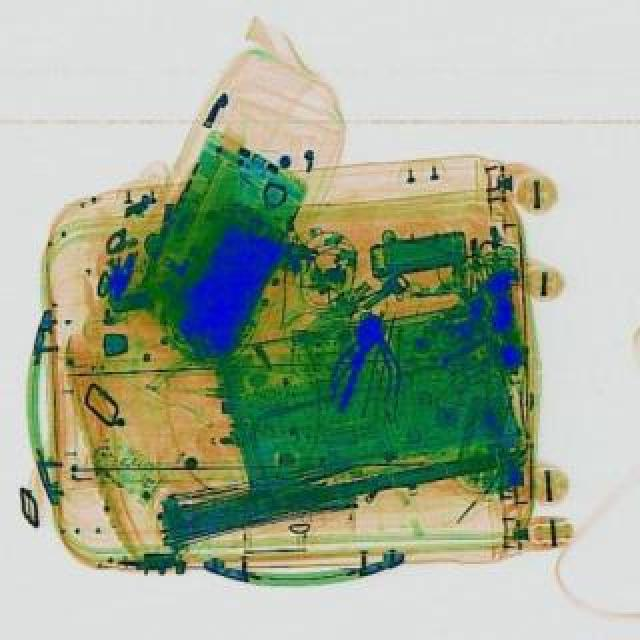wrench: (322, 312, 406, 408), (332, 312, 412, 404)
